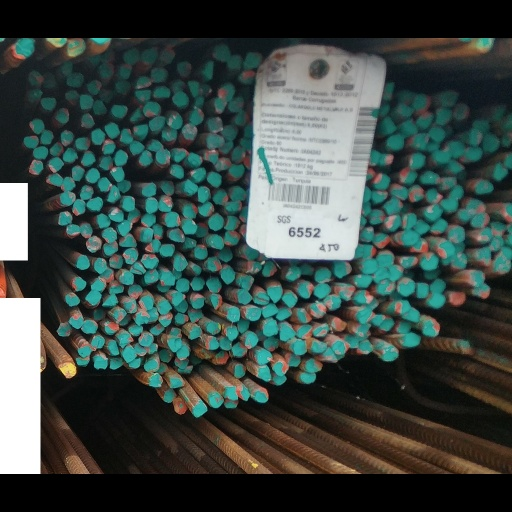dipstick: (12, 1, 39, 25), (209, 2, 232, 27), (461, 184, 487, 206), (491, 251, 511, 278), (480, 109, 500, 136), (373, 282, 398, 303), (421, 328, 443, 351), (436, 160, 459, 182), (384, 110, 406, 133), (371, 129, 393, 152), (64, 2, 86, 24), (335, 288, 357, 310), (419, 250, 441, 272), (435, 59, 457, 81), (483, 74, 505, 96), (216, 51, 237, 74), (227, 170, 248, 193), (417, 152, 441, 172), (139, 8, 158, 33), (219, 101, 244, 120), (242, 15, 264, 36), (229, 354, 250, 376), (428, 279, 449, 301), (383, 184, 404, 206), (164, 85, 184, 108), (333, 260, 353, 283), (447, 294, 467, 317), (185, 78, 204, 102), (206, 204, 225, 228), (396, 280, 415, 304), (473, 243, 492, 267), (415, 86, 434, 110), (471, 165, 496, 183), (23, 58, 44, 79), (224, 18, 245, 39), (259, 328, 280, 349), (302, 373, 324, 393), (354, 315, 376, 335), (393, 329, 415, 349), (371, 158, 393, 178), (406, 133, 426, 155), (392, 75, 414, 95), (408, 111, 430, 131), (462, 105, 482, 127), (446, 118, 466, 140), (142, 72, 161, 95), (413, 65, 431, 89), (26, 92, 46, 113), (147, 91, 167, 112), (179, 164, 200, 184), (204, 413, 225, 433), (427, 298, 448, 318), (464, 270, 485, 290), (389, 169, 410, 189), (470, 203, 491, 223), (471, 92, 491, 113), (162, 204, 184, 223), (277, 335, 296, 357), (290, 352, 309, 374), (403, 313, 422, 335), (373, 225, 392, 247), (411, 232, 430, 254), (406, 170, 425, 192), (398, 151, 417, 173), (202, 110, 225, 128), (206, 155, 224, 178), (156, 183, 174, 206), (205, 278, 223, 301), (399, 346, 422, 364), (350, 275, 373, 293), (219, 264, 236, 288), (25, 36, 45, 56), (204, 92, 224, 112), (242, 314, 262, 334), (313, 287, 333, 307), (384, 206, 404, 226), (446, 173, 466, 193), (72, 114, 93, 133), (135, 131, 154, 152), (169, 126, 188, 147), (170, 62, 191, 81), (138, 167, 159, 186), (117, 271, 138, 290), (322, 301, 343, 320), (396, 224, 417, 243), (379, 92, 398, 113), (58, 106, 76, 128), (85, 231, 103, 253), (112, 128, 130, 150), (40, 38, 58, 60), (121, 9, 139, 31), (238, 37, 260, 55), (282, 295, 300, 317), (294, 284, 312, 306), (491, 145, 509, 167), (181, 98, 198, 121), (389, 307, 412, 324), (396, 254, 419, 271), (191, 425, 208, 448), (199, 25, 215, 49), (99, 221, 118, 241), (97, 28, 116, 48), (150, 34, 169, 54), (169, 46, 189, 65), (115, 342, 134, 362), (189, 279, 209, 298), (235, 276, 255, 295), (262, 349, 282, 368), (282, 367, 302, 386), (239, 241, 259, 260), (312, 268, 332, 287), (293, 314, 312, 334), (422, 195, 442, 214), (396, 59, 415, 79), (398, 95, 417, 115), (464, 125, 483, 145), (254, 384, 272, 405), (470, 289, 491, 307), (428, 213, 449, 231), (368, 200, 389, 218), (434, 81, 452, 102), (170, 253, 187, 275), (181, 209, 198, 231), (350, 333, 372, 350), (318, 364, 340, 381), (160, 9, 176, 32), (94, 368, 110, 391), (243, 342, 259, 365), (453, 75, 469, 98), (46, 139, 65, 158), (63, 61, 82, 80), (65, 39, 84, 58), (83, 48, 102, 67), (141, 252, 160, 271), (167, 221, 186, 240), (371, 177, 390, 196), (83, 151, 101, 171), (103, 98, 121, 118), (113, 47, 131, 67), (116, 29, 134, 49), (127, 78, 145, 98), (188, 150, 208, 168), (80, 330, 100, 348), (59, 379, 77, 399), (185, 335, 203, 355), (222, 335, 240, 355), (272, 376, 290, 396), (299, 390, 319, 408), (222, 226, 242, 244), (196, 171, 211, 195), (227, 146, 245, 166), (310, 310, 328, 330), (307, 352, 327, 370), (343, 344, 361, 364), (358, 240, 378, 258), (428, 103, 446, 123), (79, 170, 96, 191), (89, 105, 106, 126), (154, 129, 171, 150), (159, 165, 176, 186), (159, 271, 176, 292), (224, 313, 241, 334), (207, 229, 224, 250), (253, 409, 270, 430), (171, 421, 188, 442), (105, 171, 121, 193), (208, 298, 224, 320), (353, 296, 375, 312), (70, 147, 85, 170), (58, 178, 76, 197), (100, 237, 118, 256), (110, 149, 128, 168), (98, 137, 116, 156), (110, 76, 128, 95), (127, 120, 145, 139), (152, 54, 171, 72), (108, 315, 126, 334), (136, 344, 155, 362), (157, 322, 176, 340), (137, 302, 156, 320), (330, 325, 348, 344), (379, 327, 398, 345), (27, 140, 44, 160), (95, 162, 112, 182), (120, 184, 137, 204), (132, 58, 152, 75), (175, 25, 192, 45), (181, 192, 198, 212), (126, 288, 143, 308), (56, 334, 76, 351), (192, 241, 209, 261), (231, 381, 248, 401), (331, 354, 351, 371), (359, 258, 379, 275), (387, 265, 404, 285), (451, 251, 468, 271), (489, 213, 506, 233), (122, 244, 138, 265), (121, 360, 137, 381), (262, 260, 278, 281), (267, 287, 281, 311), (358, 352, 374, 373), (444, 143, 465, 159), (230, 125, 245, 147), (314, 331, 329, 353), (359, 219, 374, 241), (137, 223, 155, 241), (83, 296, 101, 314), (126, 333, 144, 351), (158, 239, 176, 257), (204, 256, 222, 274), (284, 267, 302, 285), (449, 220, 467, 238), (21, 113, 40, 130), (61, 128, 78, 147), (86, 185, 103, 204), (70, 277, 87, 296), (145, 117, 164, 134), (134, 42, 153, 59), (228, 70, 245, 89), (168, 147, 185, 166), (101, 300, 120, 317), (121, 304, 138, 323), (155, 305, 172, 324), (169, 298, 188, 315), (236, 294, 253, 313), (259, 312, 278, 329), (223, 206, 240, 225), (211, 177, 228, 196), (161, 410, 178, 429), (412, 213, 431, 230), (440, 187, 459, 204), (431, 129, 450, 146), (80, 130, 96, 150), (79, 86, 95, 106), (79, 64, 95, 84), (161, 102, 177, 122), (234, 83, 250, 103), (166, 349, 182, 369), (297, 334, 313, 354), (476, 221, 492, 241), (402, 205, 418, 225), (134, 99, 149, 120), (212, 68, 227, 89), (90, 347, 105, 368), (72, 187, 86, 209), (31, 126, 49, 143), (44, 157, 62, 174), (59, 162, 77, 179), (74, 255, 91, 273), (184, 134, 202, 151), (108, 253, 125, 271), (103, 332, 121, 349), (175, 282, 192, 300), (212, 365, 229, 383), (255, 364, 272, 382), (376, 250, 393, 268), (38, 106, 54, 125), (49, 120, 65, 139), (100, 118, 116, 137), (58, 26, 74, 45), (77, 357, 93, 376), (167, 395, 186, 411), (187, 314, 203, 333), (206, 330, 222, 349), (204, 348, 220, 367), (253, 295, 269, 314), (198, 191, 214, 210), (223, 190, 242, 206), (214, 139, 233, 155), (437, 238, 453, 257), (452, 238, 471, 254), (489, 231, 505, 250), (90, 281, 110, 296), (92, 70, 107, 90), (126, 199, 141, 219), (79, 212, 93, 233), (92, 255, 106, 276), (120, 104, 134, 125), (188, 47, 202, 68), (40, 68, 57, 85), (107, 283, 124, 300), (106, 374, 123, 391), (145, 236, 162, 253), (217, 118, 234, 135), (381, 362, 398, 379), (53, 82, 69, 100), (117, 166, 133, 184), (116, 213, 132, 231), (130, 261, 146, 279), (143, 375, 159, 393), (237, 405, 250, 427), (96, 204, 111, 223), (140, 206, 159, 221), (120, 231, 139, 246), (145, 393, 164, 408), (144, 316, 159, 335), (224, 406, 239, 425), (106, 354, 120, 374), (416, 285, 428, 308), (64, 217, 80, 234), (64, 298, 80, 315), (375, 270, 392, 286), (456, 200, 472, 217), (58, 203, 73, 221), (99, 57, 114, 75), (144, 270, 159, 288), (69, 324, 84, 342), (148, 334, 166, 349), (187, 261, 202, 279), (109, 198, 123, 217), (144, 187, 158, 206), (172, 374, 191, 388), (196, 215, 210, 234), (99, 269, 115, 285), (173, 321, 189, 337), (181, 231, 197, 247), (276, 315, 292, 331), (426, 176, 442, 192), (158, 364, 173, 381), (176, 361, 191, 378), (133, 320, 150, 335), (247, 260, 262, 277), (133, 358, 148, 374), (191, 302, 207, 317), (272, 392, 287, 408), (92, 316, 106, 333), (218, 349, 232, 366), (176, 385, 197, 396), (360, 190, 372, 209), (75, 371, 90, 385), (300, 263, 313, 279), (128, 376, 142, 390), (202, 128, 211, 148), (362, 173, 372, 191), (171, 270, 183, 283), (148, 358, 159, 372)
